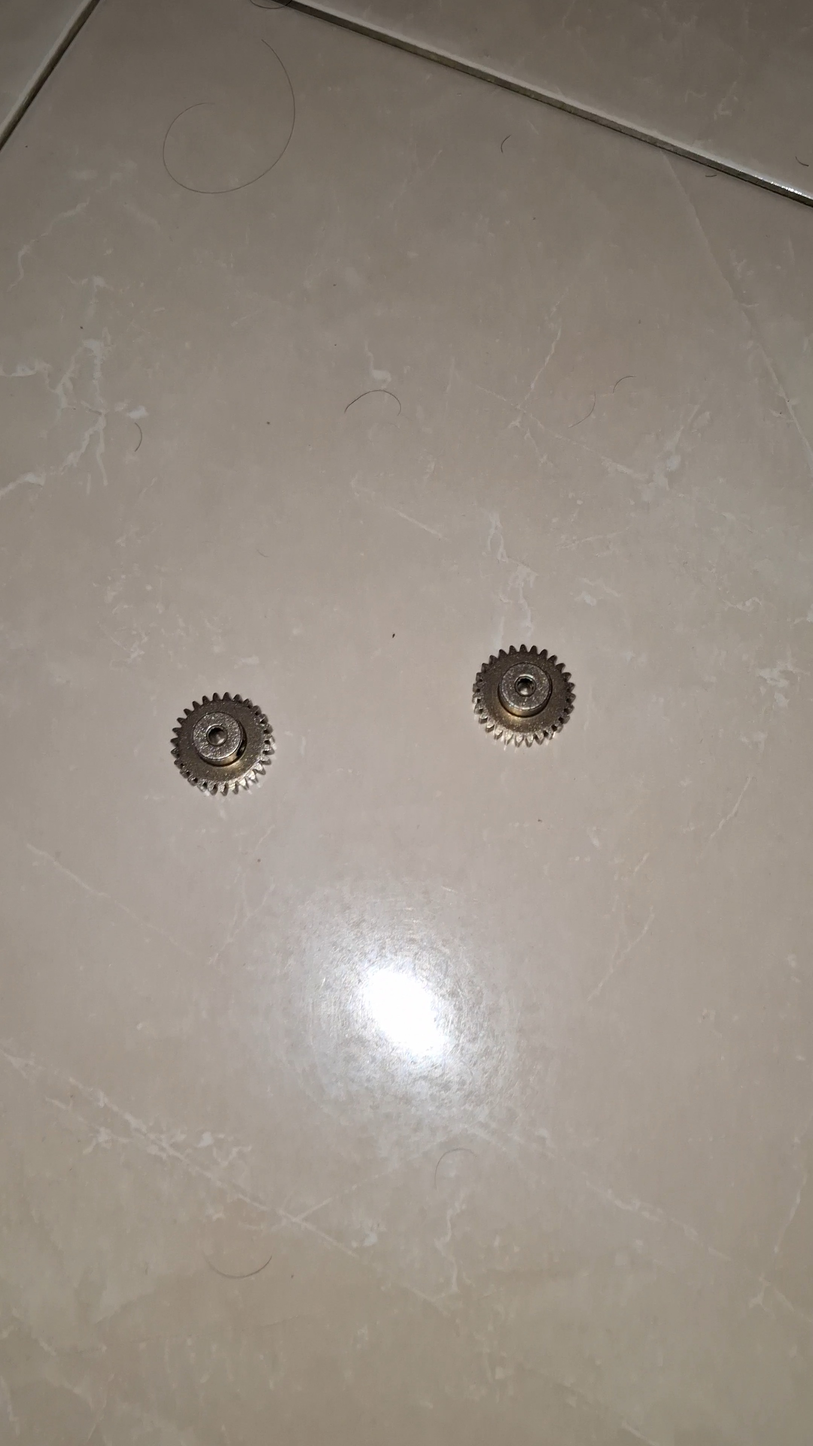spur gear: (178, 699, 277, 798), (474, 652, 573, 750)
